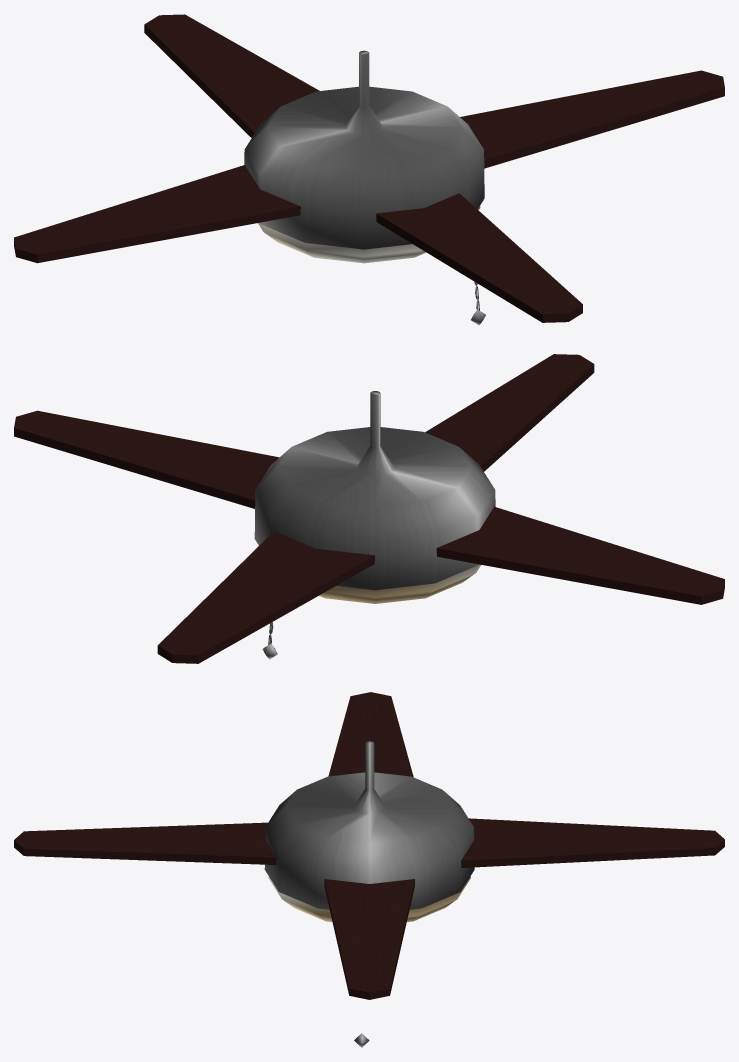
The model's file is Ceiling_Fan_D.FBX.
The picture shows the model from 3 angles, top to bottom: view 1: azimuth 30°, elevation 25°; view 2: azimuth 150°, elevation 25°; view 3: azimuth 270°, elevation 25°; orthographic projection. The views are drawn at different scales.
Visible parts, largest first — view 1: Fan_Blades, Ceiling_Fan; view 2: Fan_Blades, Ceiling_Fan; view 3: Fan_Blades, Ceiling_Fan.
Part boxes in pixels (left/top/right/bottom): Fan_Blades: left=14, top=14, right=724, bottom=322; Ceiling_Fan: left=244, top=50, right=485, bottom=324; Fan_Blades: left=14, top=354, right=724, bottom=663; Ceiling_Fan: left=254, top=391, right=495, bottom=659; Fan_Blades: left=14, top=692, right=724, bottom=999; Ceiling_Fan: left=264, top=741, right=474, bottom=1047.
Bounding box in the file's own units: 409 × 164 × 409.
